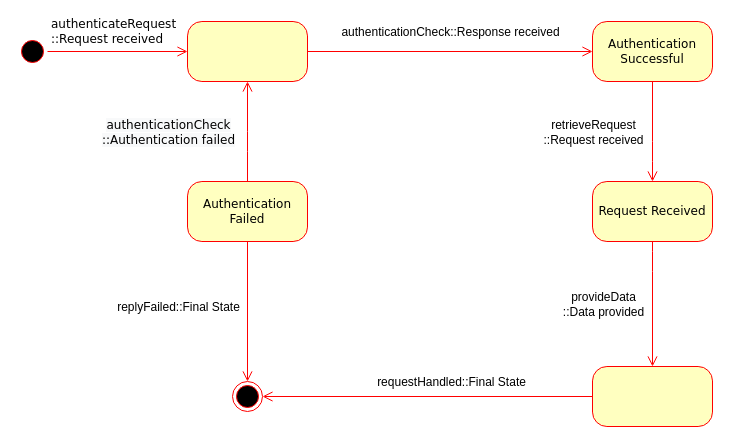
This 730x444 diagram has some shape labels left out. Each missing label, with the box of its shape:
Data Provided: (592, 366, 712, 426)
Request received from Municipality: (186, 20, 308, 82)
